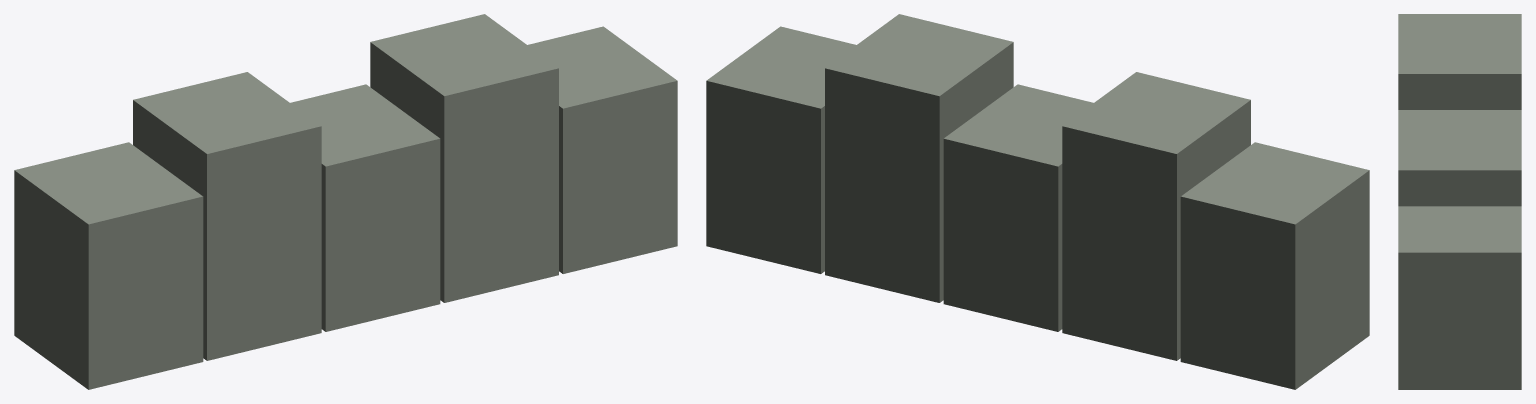
The picture shows the model from 3 angles, left to right: view 1: azimuth 30°, elevation 25°; view 2: azimuth 150°, elevation 25°; view 3: azimuth 270°, elevation 25°; orthographic projection. The views are drawn at different scales.
Visible parts, largest first — view 1: a5ab9a1a11172dab0d60104b71b5148a84c78d979ff9881b6043840fa918; view 2: a5ab9a1a11172dab0d60104b71b5148a84c78d979ff9881b6043840fa918; view 3: a5ab9a1a11172dab0d60104b71b5148a84c78d979ff9881b6043840fa918.
Part boxes in pixels (x1,y1,x2,y2): a5ab9a1a11172dab0d60104b71b5148a84c78d979ff9881b6043840fa918: (14,14,677,389); a5ab9a1a11172dab0d60104b71b5148a84c78d979ff9881b6043840fa918: (706,14,1369,389); a5ab9a1a11172dab0d60104b71b5148a84c78d979ff9881b6043840fa918: (1398,14,1521,389).
Bounding box in the file's own units: 2.98 × 1 × 0.65.
1 material, 1 textured.
